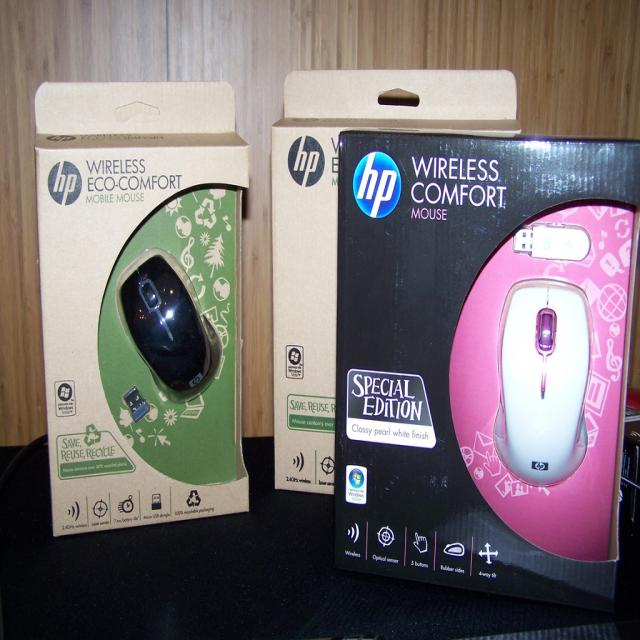HP: (350, 148, 405, 221), (284, 132, 329, 190), (44, 157, 85, 210)
